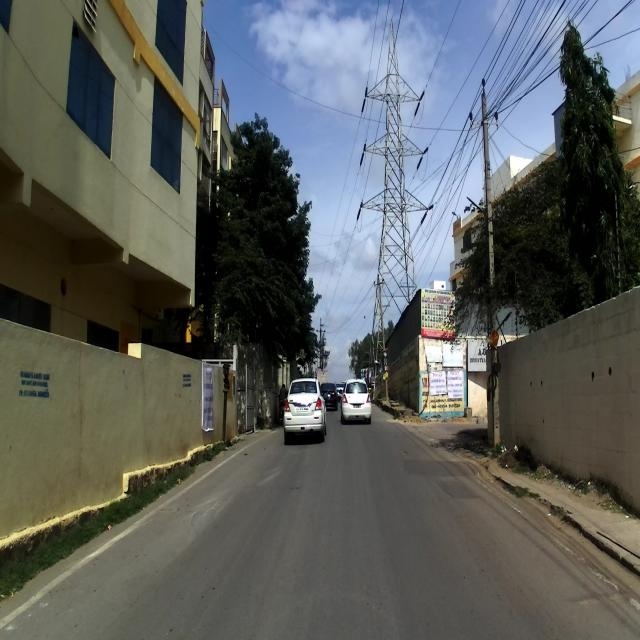car: (283, 377, 326, 444), (338, 376, 372, 424)
